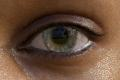eye: (42, 25, 78, 53)
